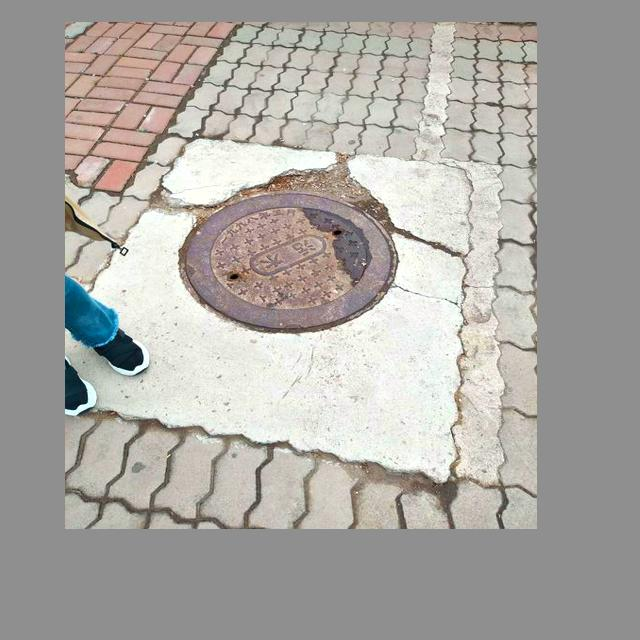circle: (136, 158, 452, 356)
